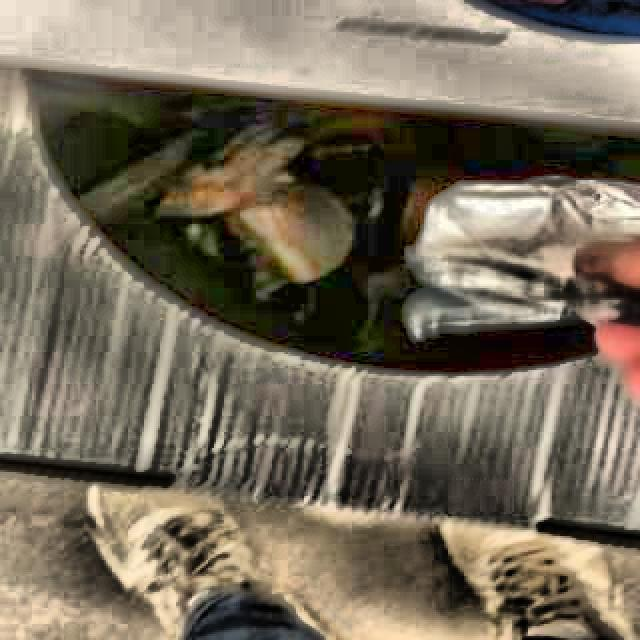plastic: (405, 182, 640, 345)
